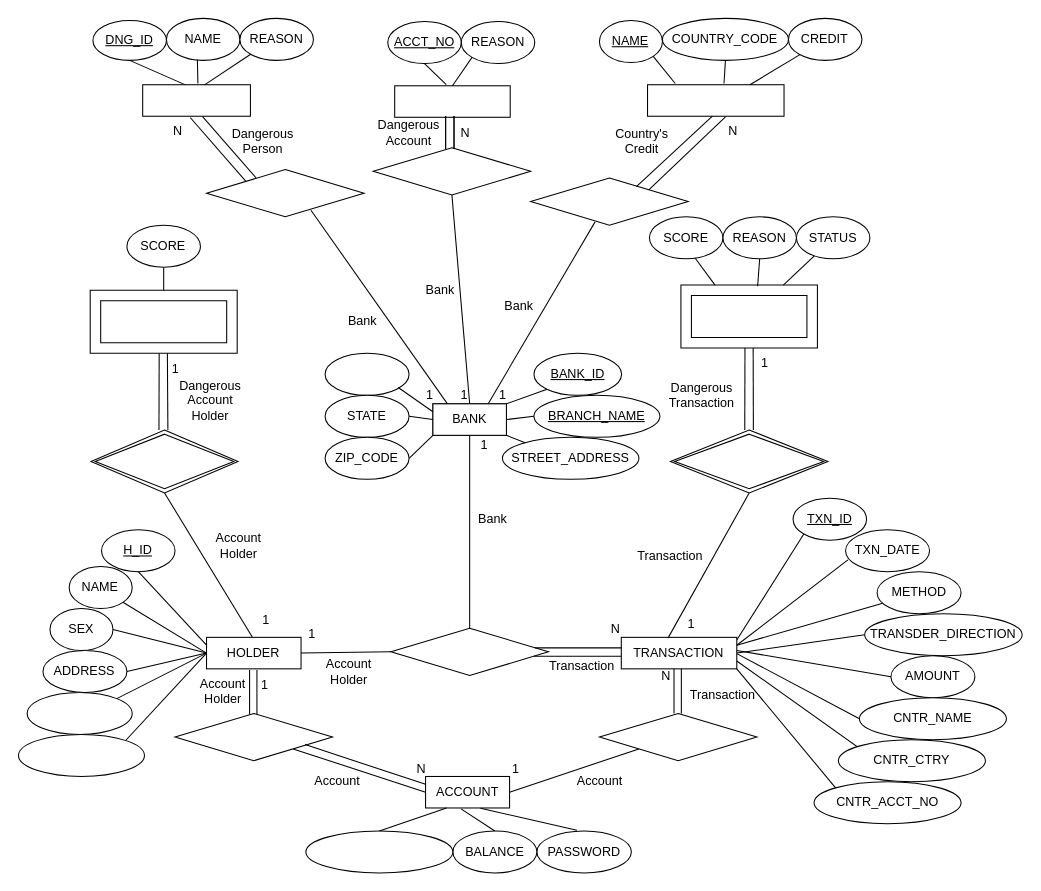
Image size: 1041x891. Some labels were removed from this diagram. Here are the shapes that lost their labels. From the top down, the centre of each, then its label:
the point at 196,100: DNG_PERS
the point at 452,101: DNG_ACCT
the point at 715,100: COUNTRY_CREDIT
the point at 451,171: MANAGES
the point at 284,193: UPDATES
the point at 609,201: RENEWS
the point at 163,321: DNG_HOLDER
the point at 748,316: DNG_TXN
the point at 366,373: CITY
the point at 164,461: SUSPECT_OF
the point at 748,461: IDENTIFIED_AS
the point at 469,651: INITIATION
the point at 79,712: NATIONALITY
the point at 80,754: PHONE_NUMBER
the point at 253,736: HAS
the point at 677,736: WITH
the point at 379,851: ACCOUNT_NUMBER
